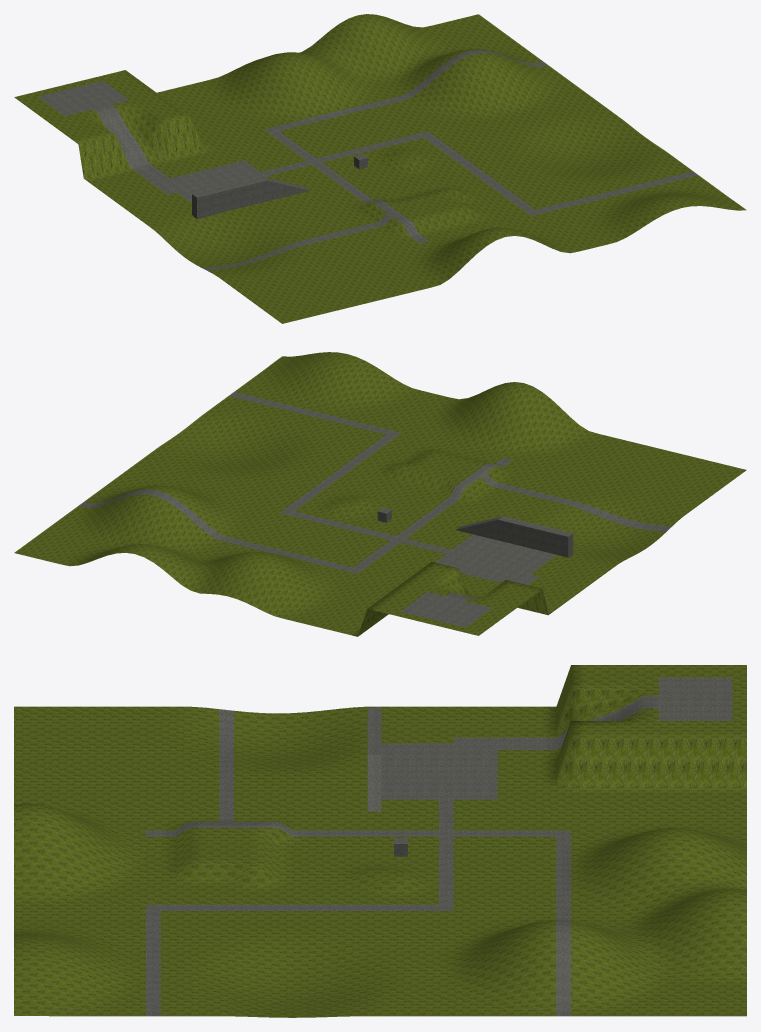
File: StageMap.gltf
The picture shows the model from 3 angles, top to bottom: view 1: azimuth 30°, elevation 25°; view 2: azimuth 150°, elevation 25°; view 3: azimuth 270°, elevation 25°; orthographic projection. The views are drawn at different scales.
Visible parts, largest first — view 1: StageMap, Wall; view 2: StageMap, Wall; view 3: StageMap, Wall.
Part boxes in pixels (x1=…): StageMap: x1=14, y1=14, x2=746, y2=323; Wall: x1=192, y1=177, x2=309, y2=219; StageMap: x1=14, y1=352, x2=746, y2=636; Wall: x1=455, y1=516, x2=573, y2=557; StageMap: x1=14, y1=665, x2=746, y2=1017; Wall: x1=367, y1=707, x2=381, y2=811.
Bounding box in the file's own units: 60 × 5.66 × 60.
2 materials, 2 textured.
